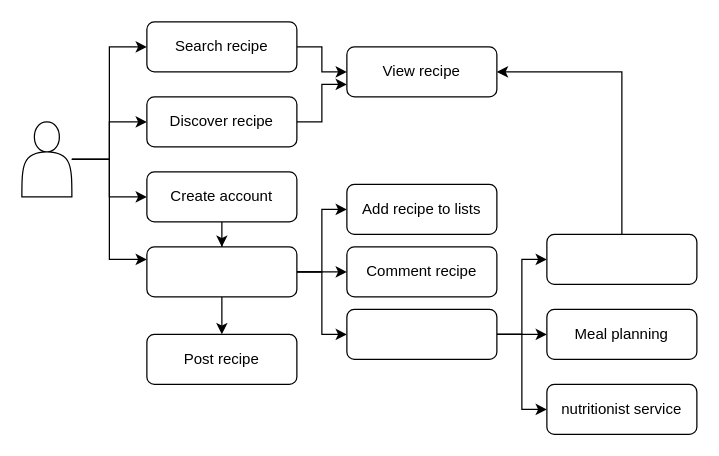
Image size: 719x456. Some labels were removed from this diagram. The centre of each missing label's shape, as x and y in pixels:
"Advanced search" belongs at pixel 621 258.
"Log in" belongs at pixel 221 271.
"subscribe membership" belongs at pixel 421 333.
"User" belongs at pixel 46 159.
